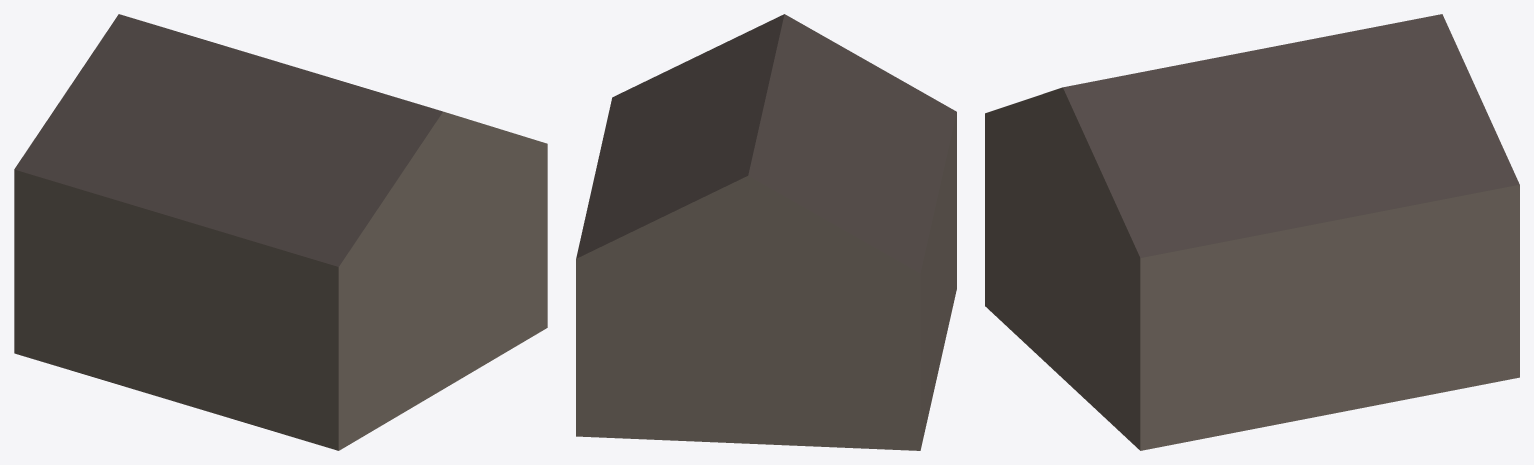
The picture shows the model from 3 angles, left to right: view 1: azimuth 30°, elevation 25°; view 2: azimuth 150°, elevation 25°; view 3: azimuth 270°, elevation 25°; orthographic projection. The views are drawn at different scales.
Parts seen in each view (by area): view 1: HP-w378107170; view 2: HP-w378107170; view 3: HP-w378107170.
Part boxes in pixels (x1,y1,x2,y2): HP-w378107170: (14, 14, 547, 450); HP-w378107170: (576, 14, 956, 450); HP-w378107170: (985, 14, 1519, 450).
Bounding box in the file's own units: 14.56 × 9.06 × 15.08.
